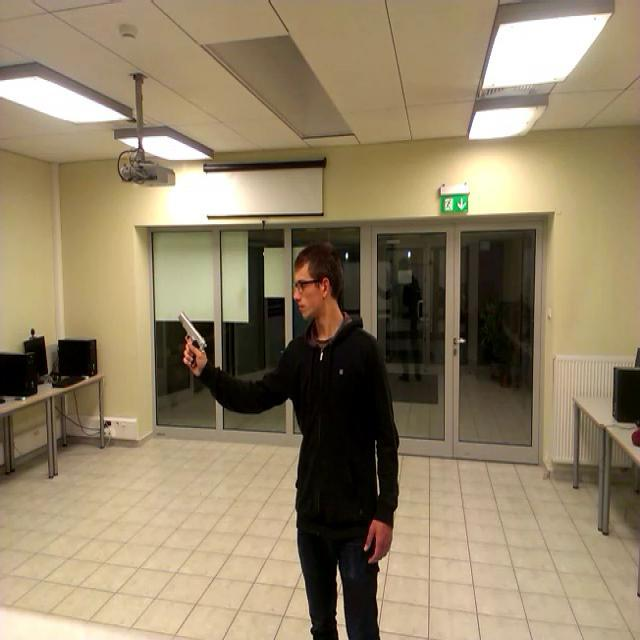Gun: (178, 310, 206, 368)
